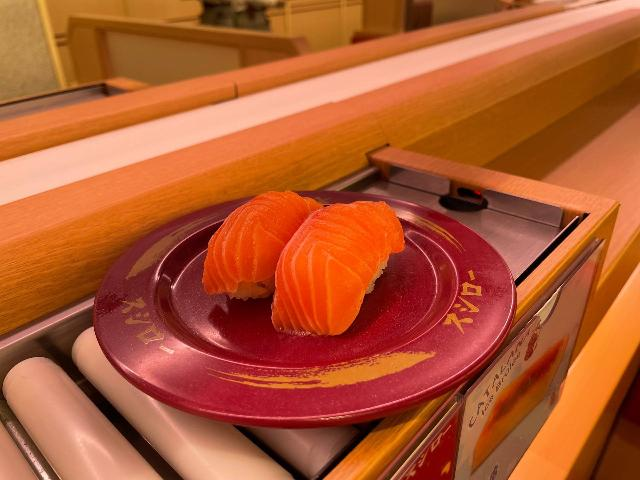jangold: (90, 201, 515, 403)
